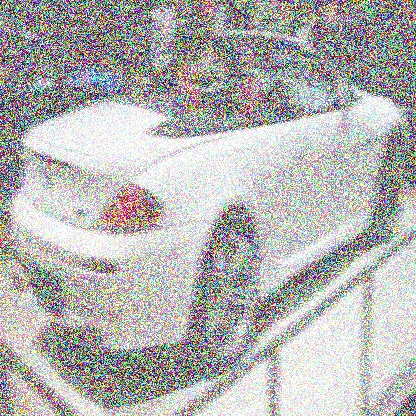Vehicle: (8, 26, 409, 376)
